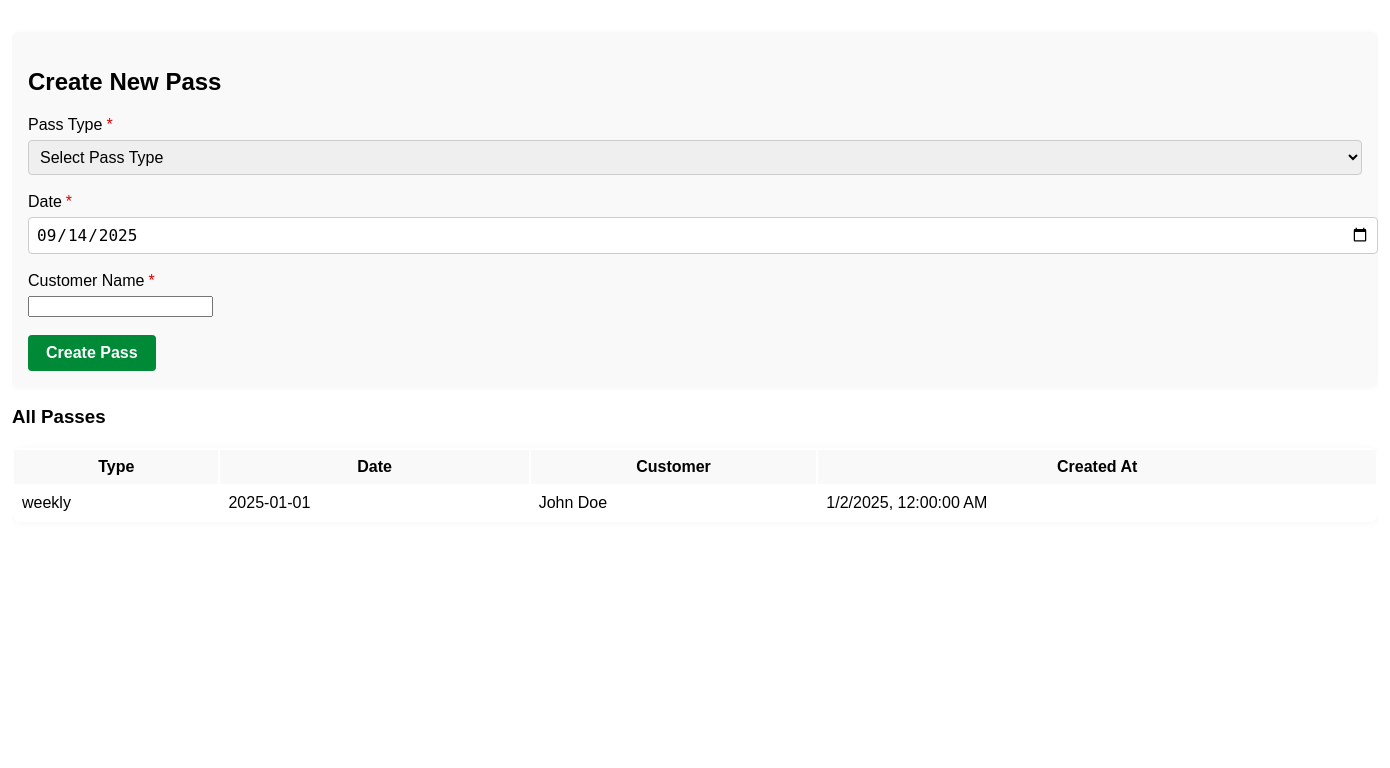
Test: PassesPage (localStorage integration) › creating a pass with new customer creates both pass and customer
Select "Monthly" in the dropdown labelled "Pass Type*". click: {"x": 695, "y": 157}
box: [28,140,1362,175]
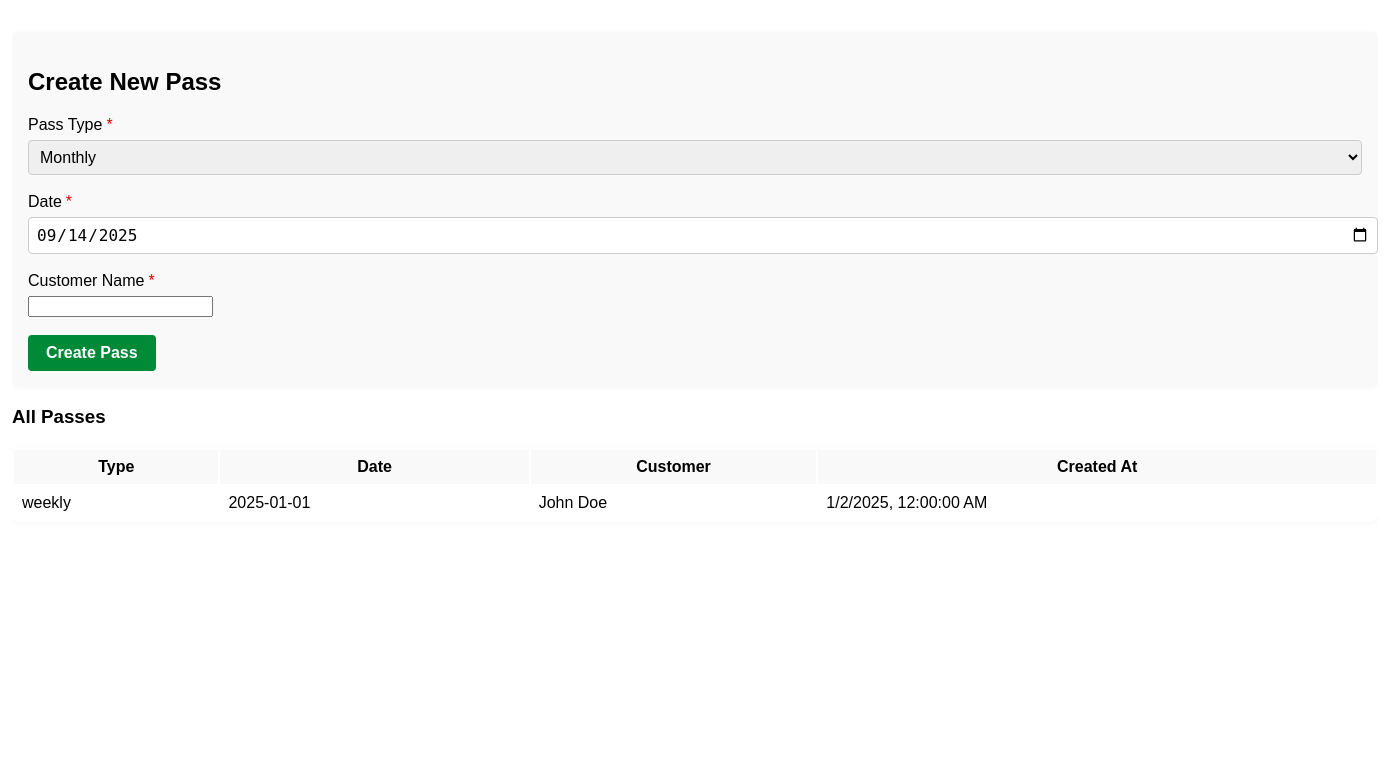
Type "Alice Cooper" into the field labelled "Customer Name*". click: {"x": 120, "y": 306}
box: [28,296,213,317]
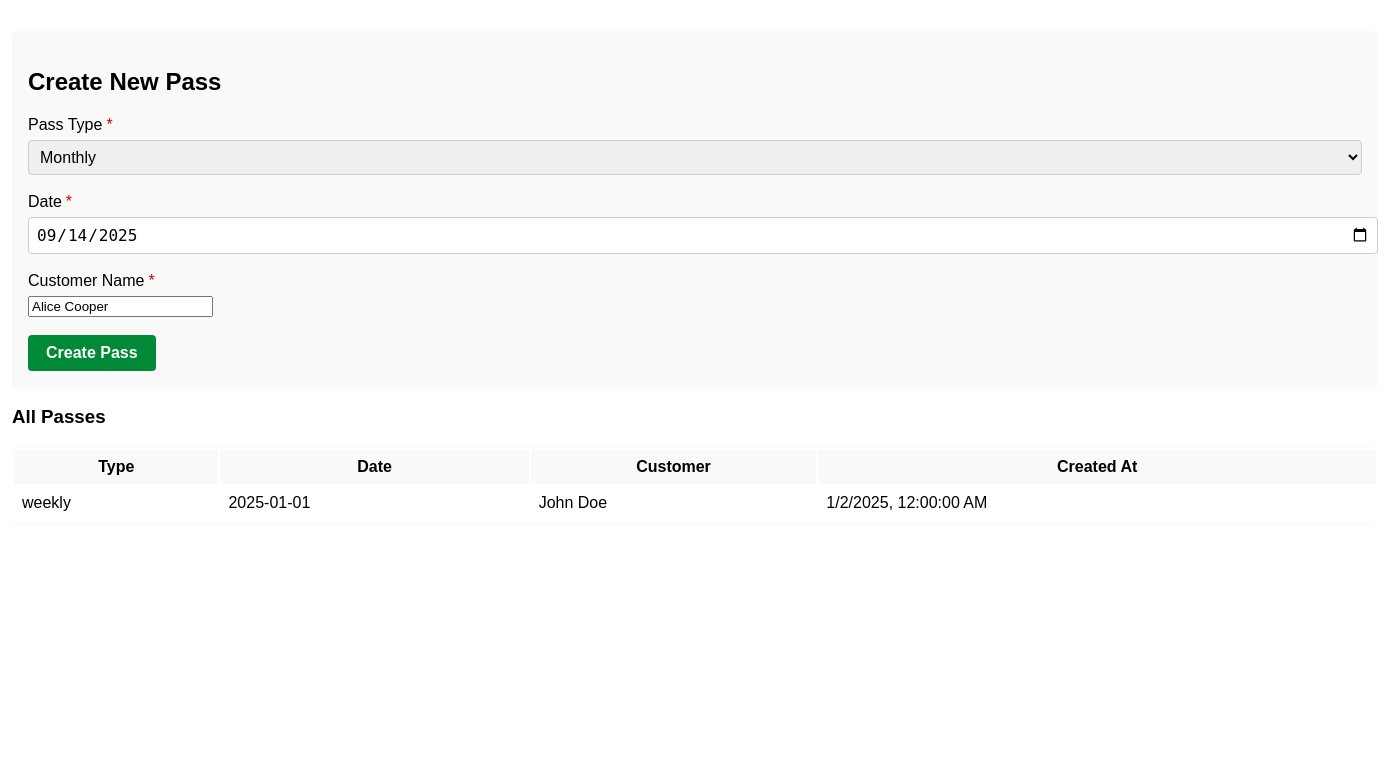
Click the button "Create Pass". click: {"x": 92, "y": 353}
box: [28,335,156,371]
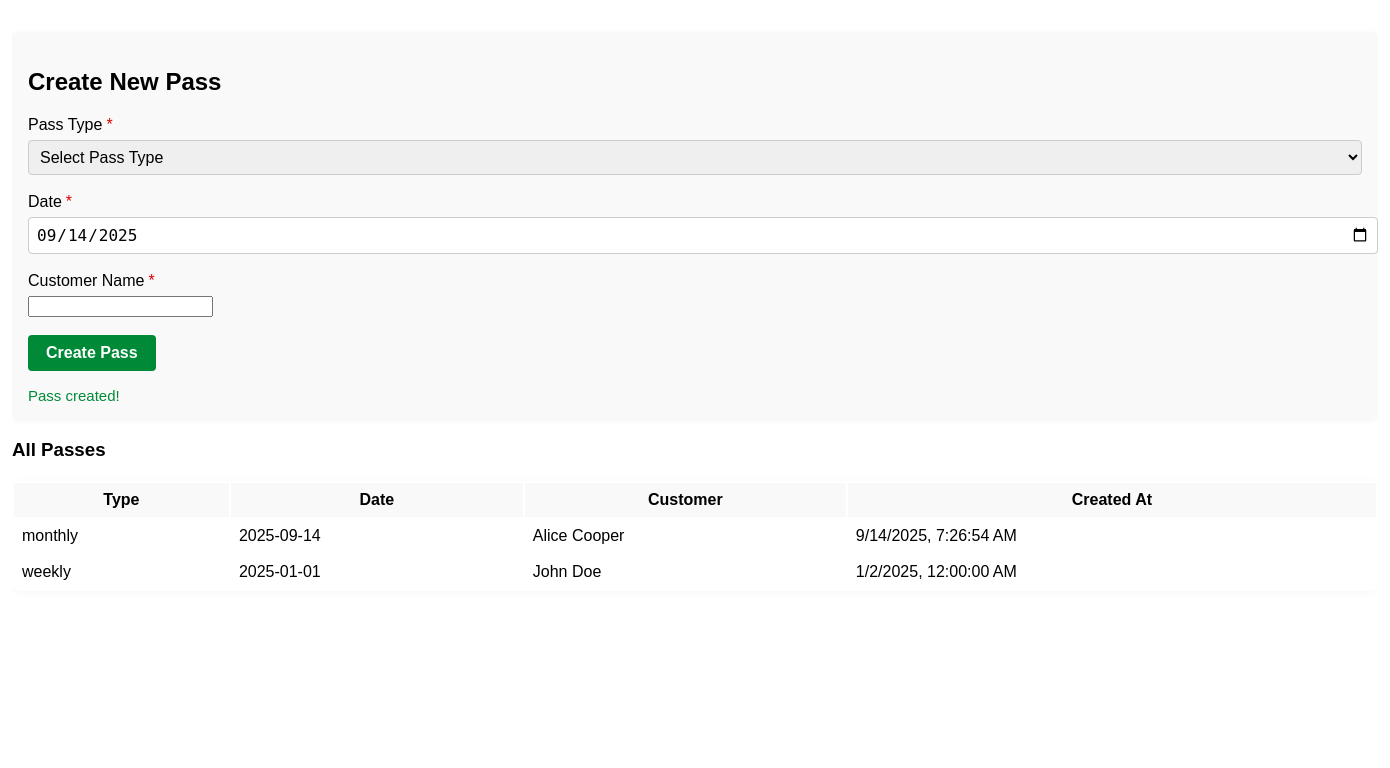
Expected: the text "Pass created!" is shown, [28,387,120,404]
Expected: the text "monthly" is shown, [14,518,229,552]
Expected: the text "Alice Cooper" is shown, [525,518,846,552]
